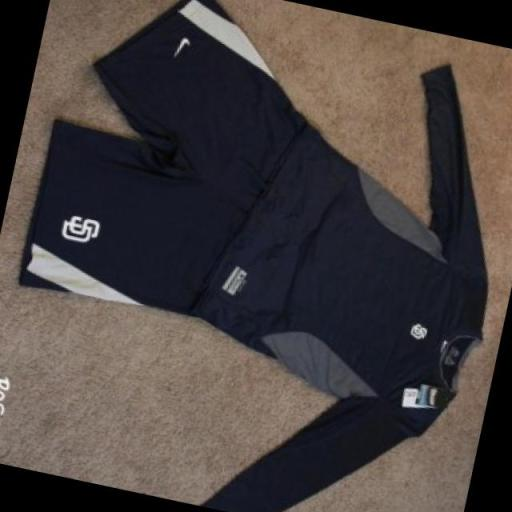Nike: (168, 32, 194, 63)
